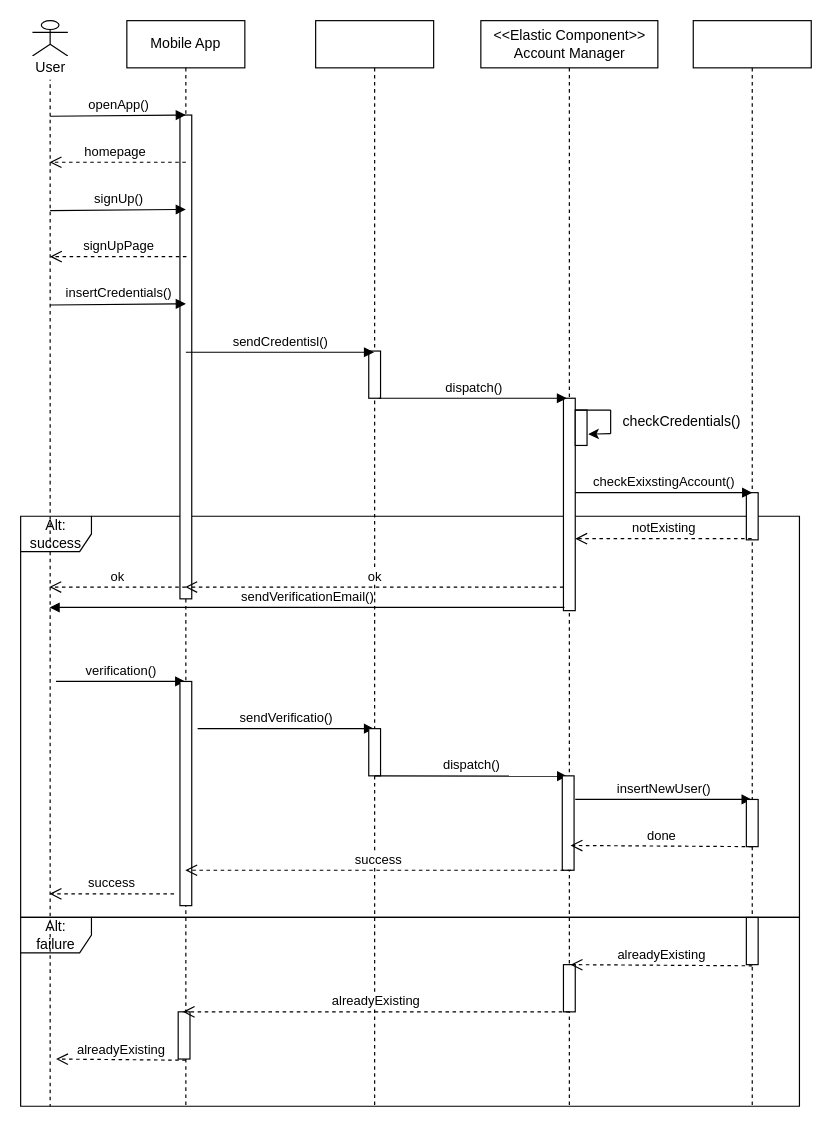
Image size: 832x1127. Some labels were removed from this diagram. The centre of each missing label's shape, as x and y in pixels:
DBMS: (751,562)
Orchestrator: (374,562)
